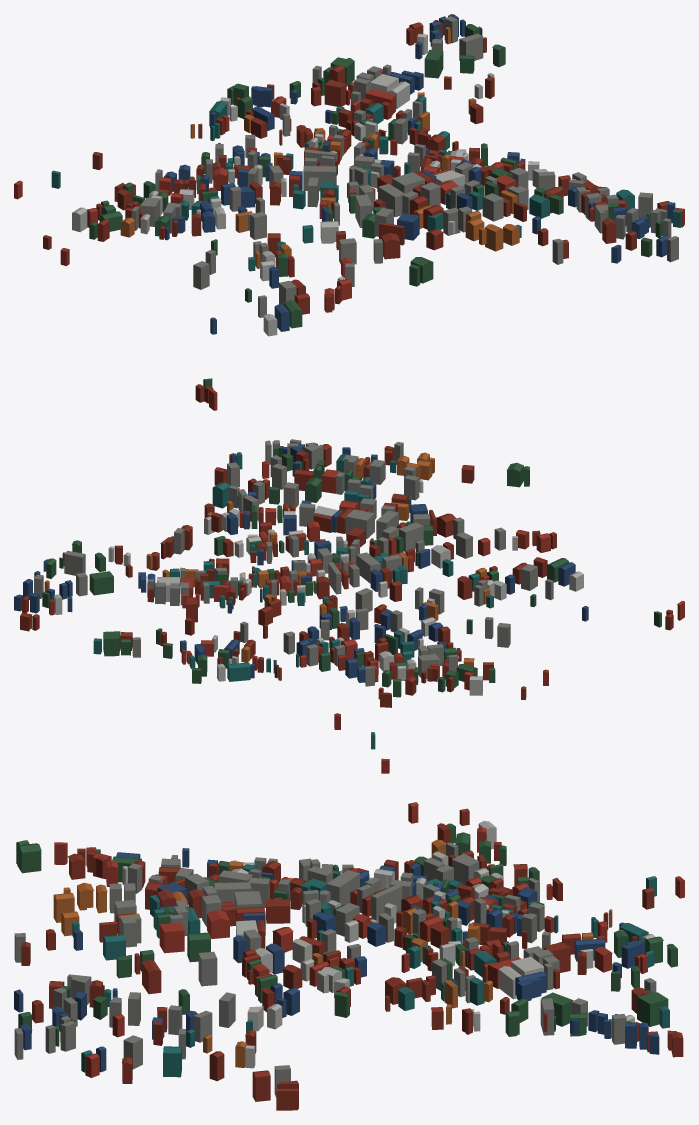
Rendered from near-16-54728-29726.22dd7e8d.glb.
3 views of the same model, one above another, from view 1: azimuth 30°, elevation 25°; view 2: azimuth 150°, elevation 25°; view 3: azimuth 270°, elevation 25° (orthographic). The views are drawn at different scales.
Size of the model in its own units: 586 by 136 by 586.
